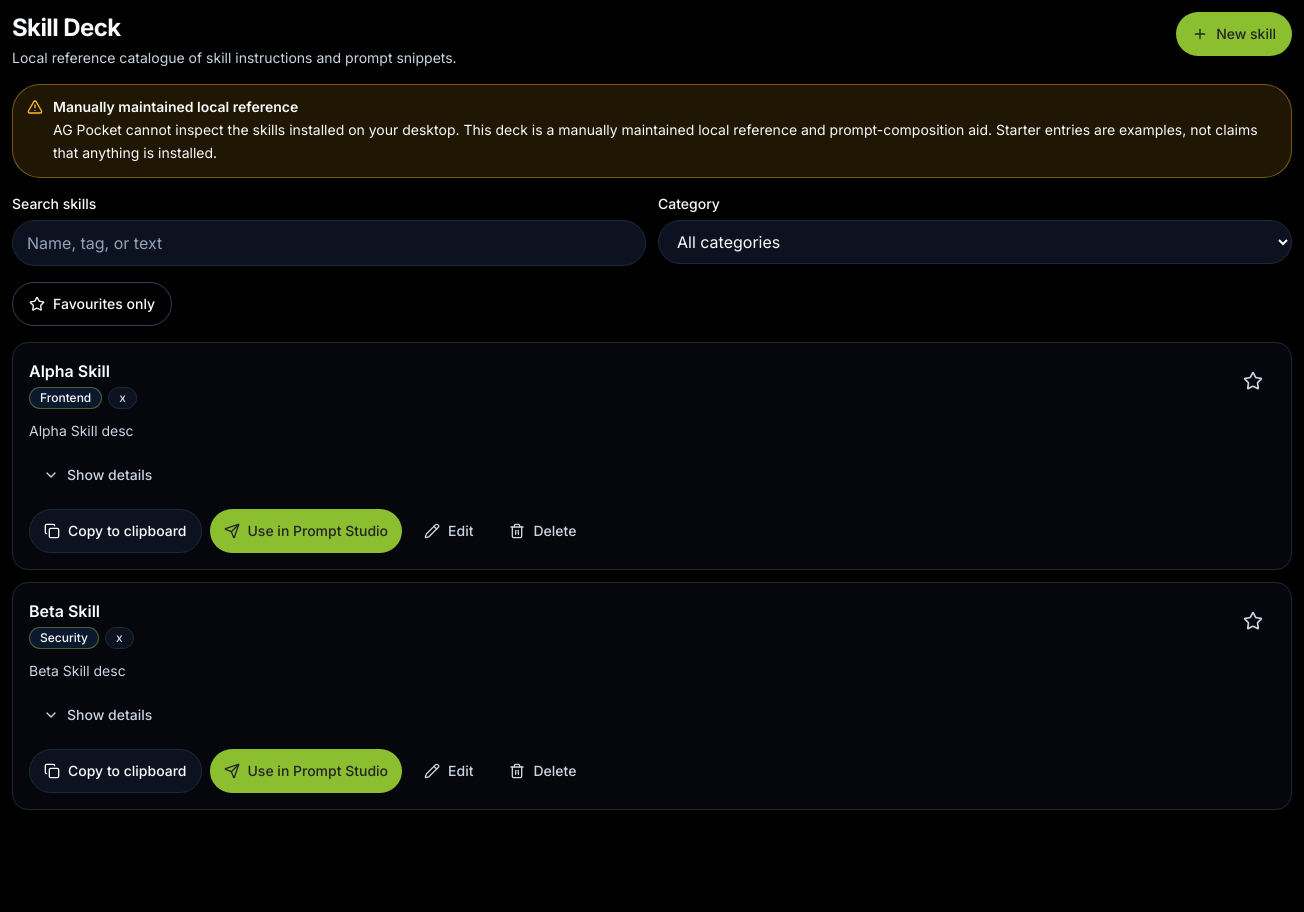
SkillDeckPage › shows disclosure, searches, filters all 10 categories, and clears filters
Expected: the text "cannot inspect the skills installed" is shown, [53,121,1258,161]
Expected: the heading "Alpha Skill" is shown, [29,360,110,380]
Type "beta" into the search field labelled "Search skills" at (329, 242), box [12,220,646,266]
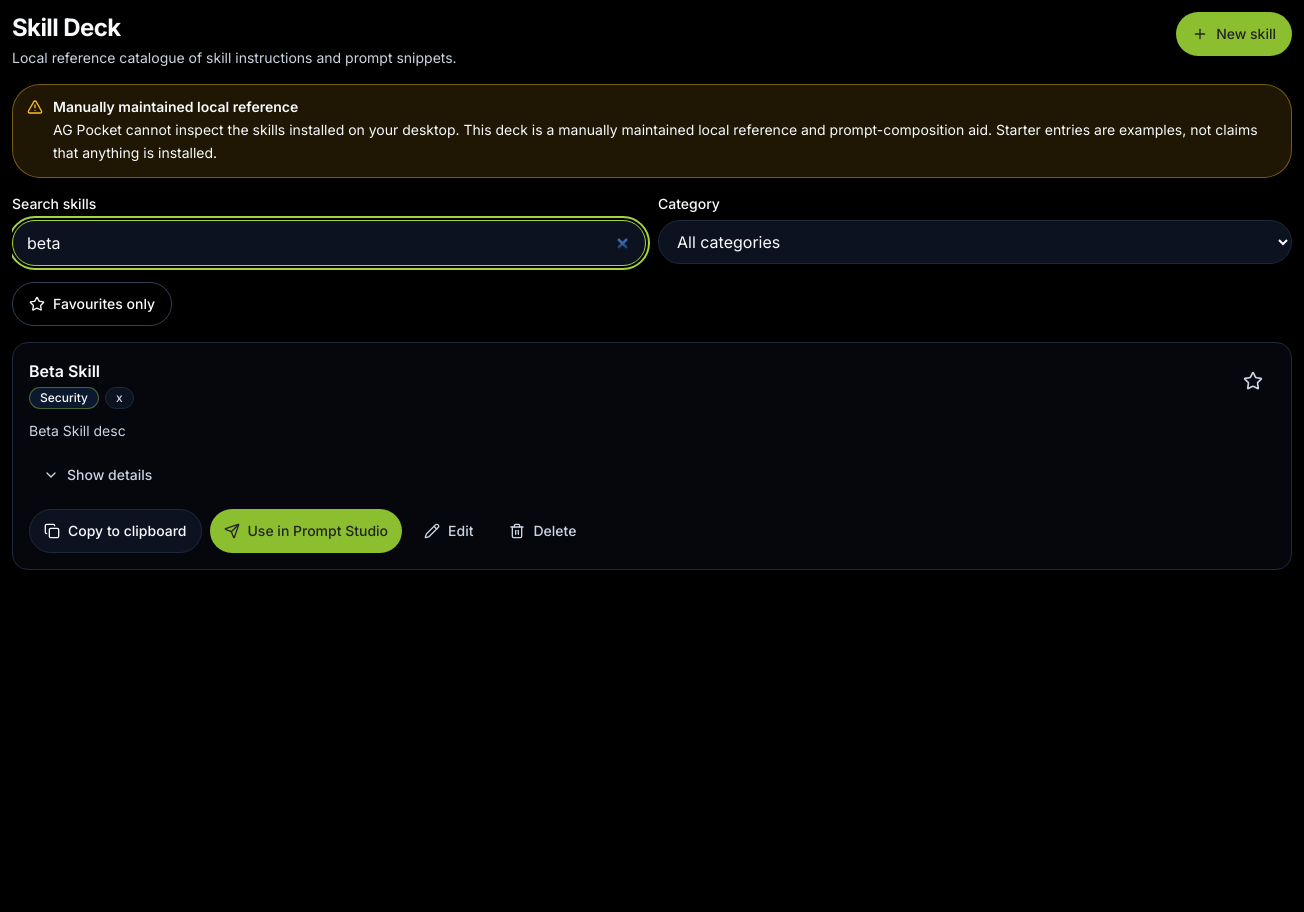
Expected: the heading "Alpha Skill" is gone
Replace the text in the search field labelled "Search skills" with "zzz" at (329, 242), box [12,220,646,266]
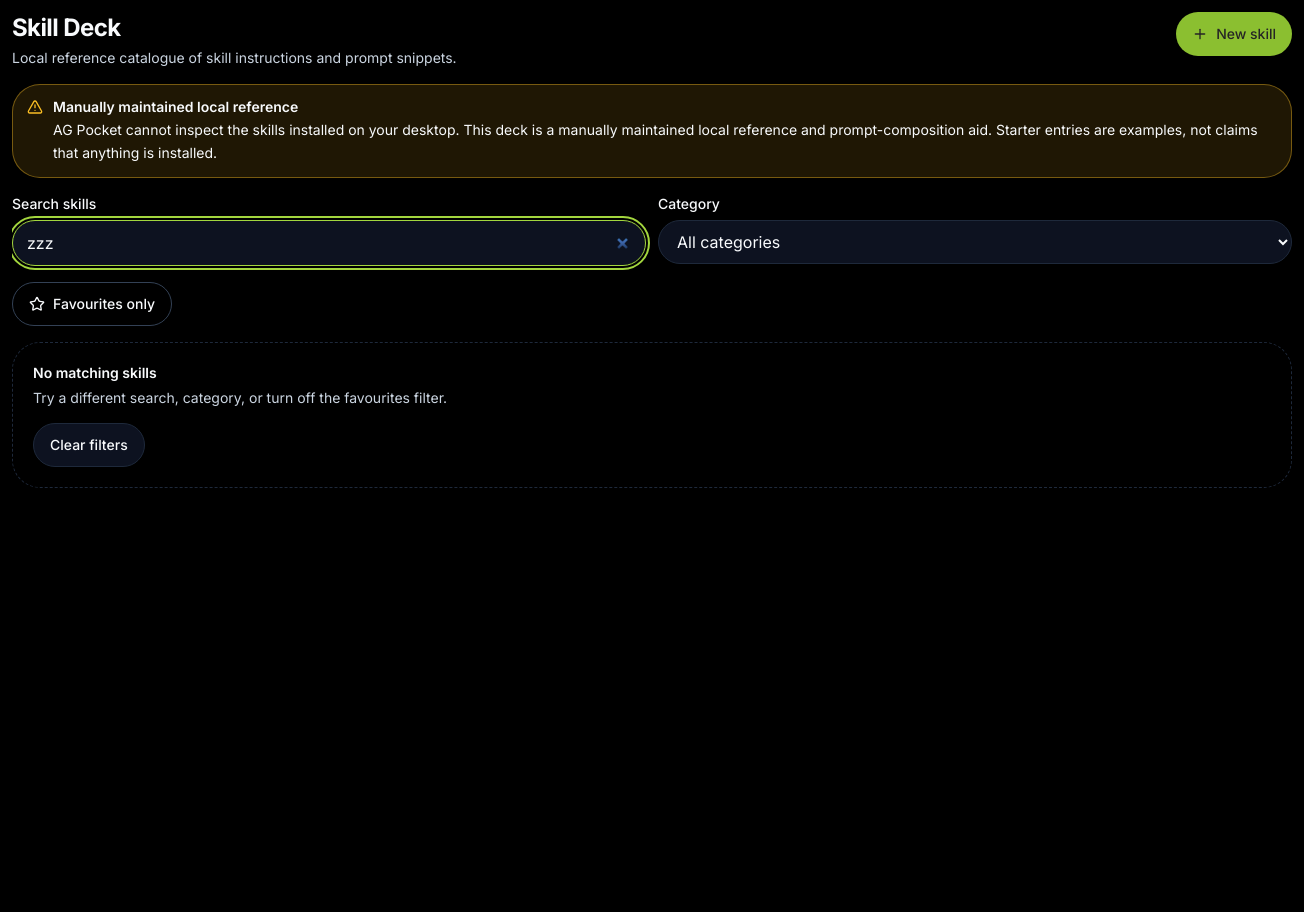
Expected: the heading "No matching skills" is shown, [33,364,157,380]
Click the button "Clear filters" at (89, 445), box [33,423,145,467]
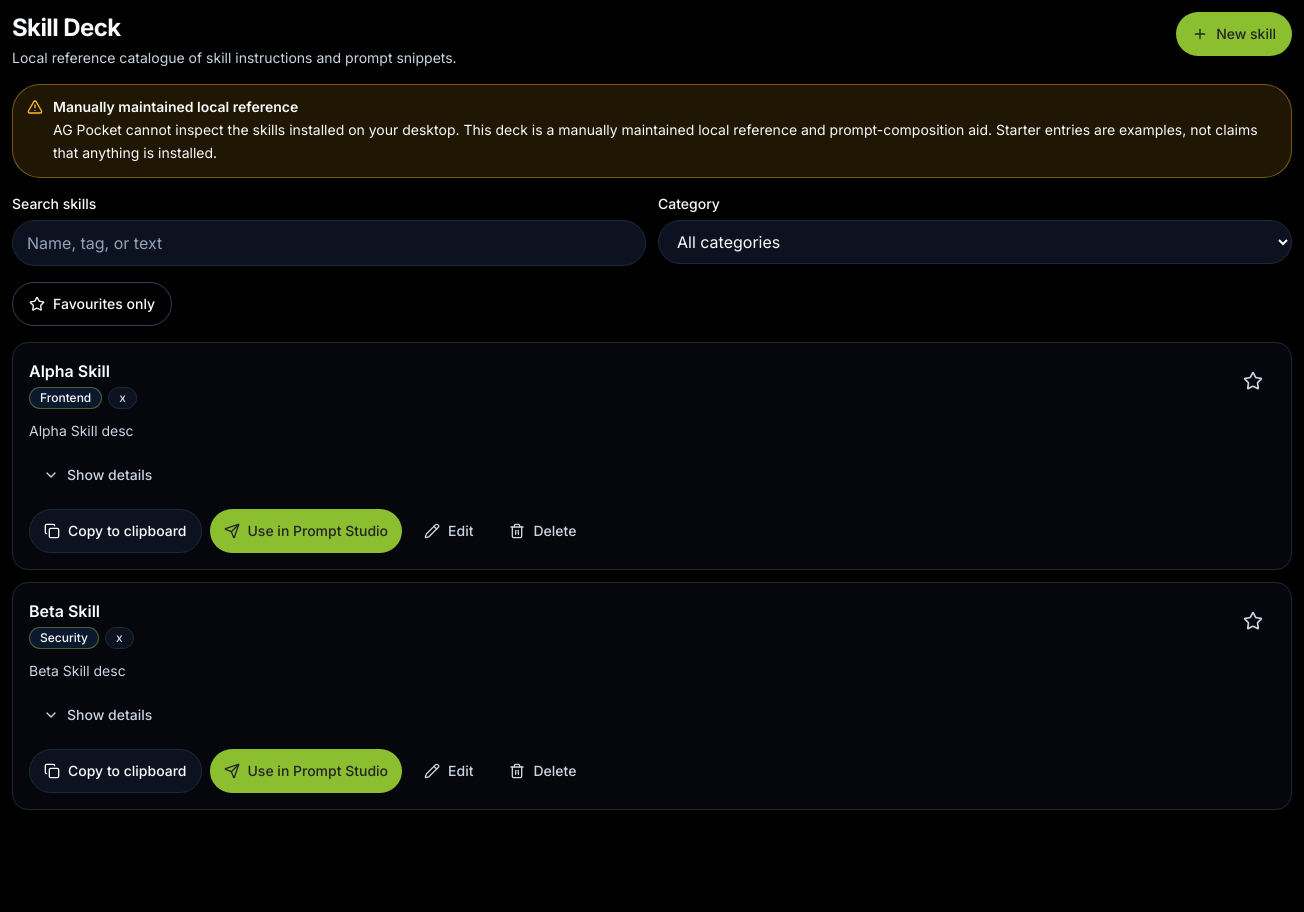
Expected: the heading "Alpha Skill" is shown, [29,360,110,380]
Expected: the heading "Beta Skill" is shown, [29,600,100,620]
Select "Security" in the dropdown labelled "Category" at (975, 242), box [658,220,1292,264]
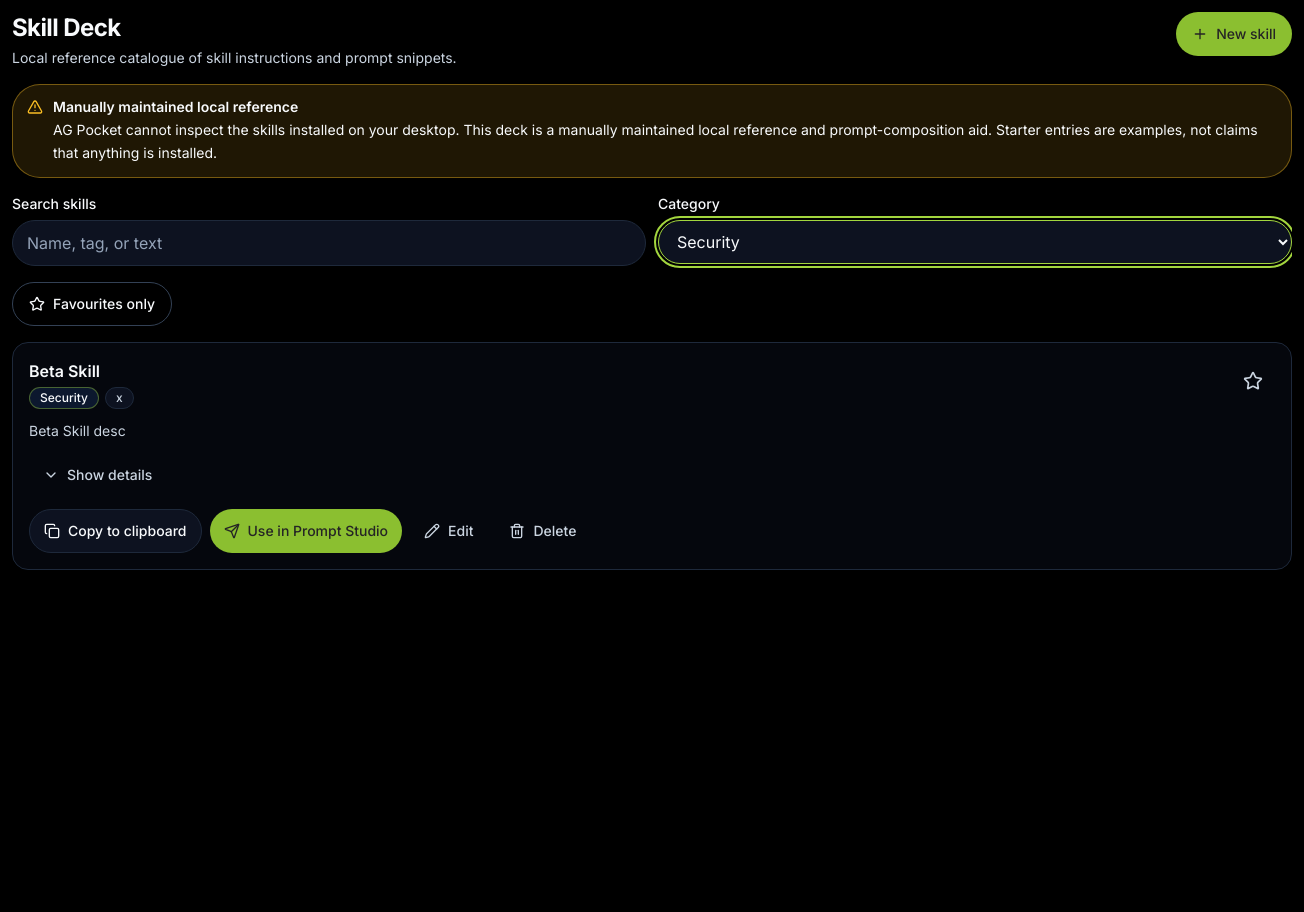
Expected: the heading "Beta Skill" is shown, [29,360,100,380]
Expected: the heading "Alpha Skill" is gone
